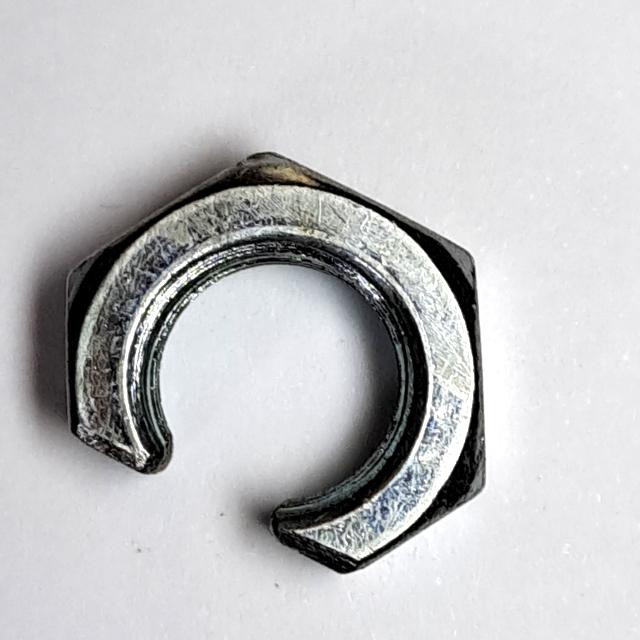Fracture: (47, 132, 504, 595)
